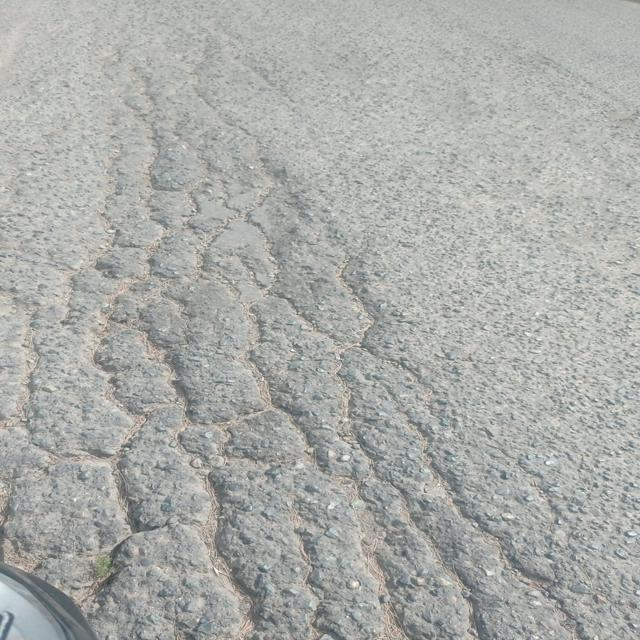Retak Buaya: (0, 105, 491, 640)
